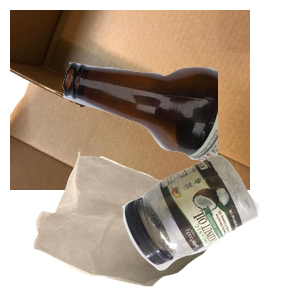cardboard: (10, 10, 250, 190)
glass: (60, 59, 300, 217)
plastic: (120, 152, 300, 300)
trash: (31, 149, 268, 300)
